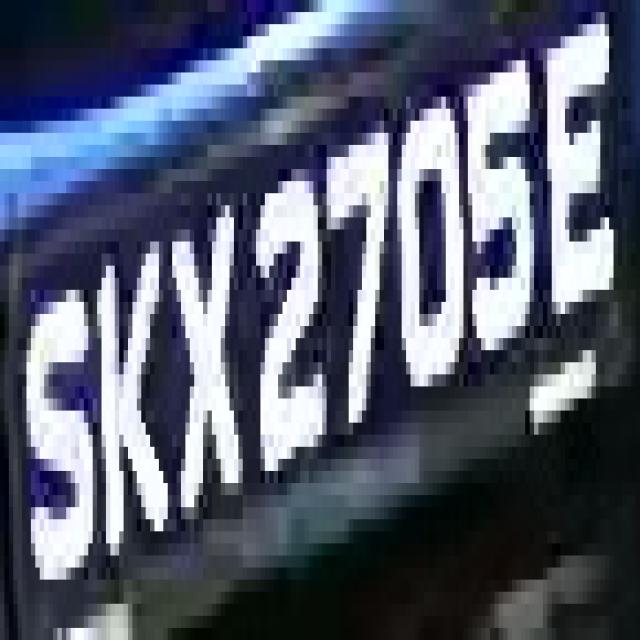0: (388, 84, 472, 434)
2: (243, 133, 335, 495)
5: (464, 48, 538, 411)
7: (313, 84, 393, 447)
E: (529, 0, 622, 362)
K: (84, 266, 176, 568)
S: (18, 241, 97, 604)
X: (163, 194, 252, 532)
